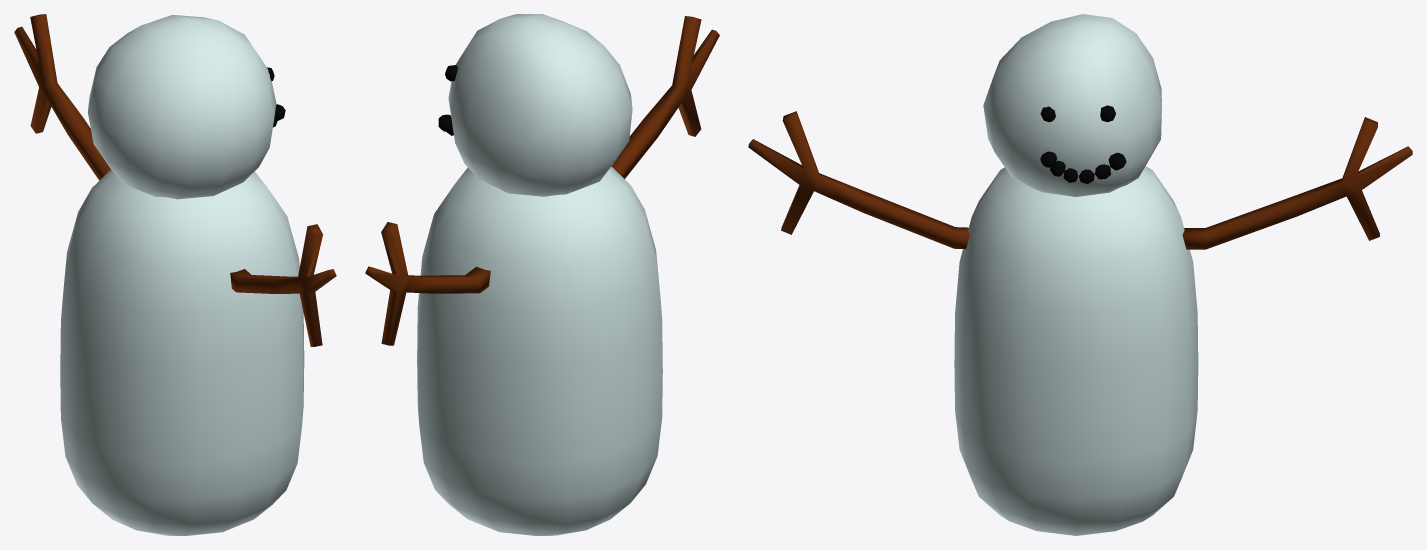
The model's file is Snowman.glb.
3 renders of one model, left to right at view 1: azimuth 30°, elevation 25°; view 2: azimuth 150°, elevation 25°; view 3: azimuth 270°, elevation 25°, orthographic.
Visible parts, largest first — view 1: Brazos; view 2: Brazos; view 3: Brazos.
Part boxes in pixels (x1,y1,x2,y2): Brazos: (14, 14, 336, 535); Brazos: (365, 14, 719, 535); Brazos: (748, 14, 1412, 535).
Size of the model in its own units: 1.83 by 4.14 by 4.99.
